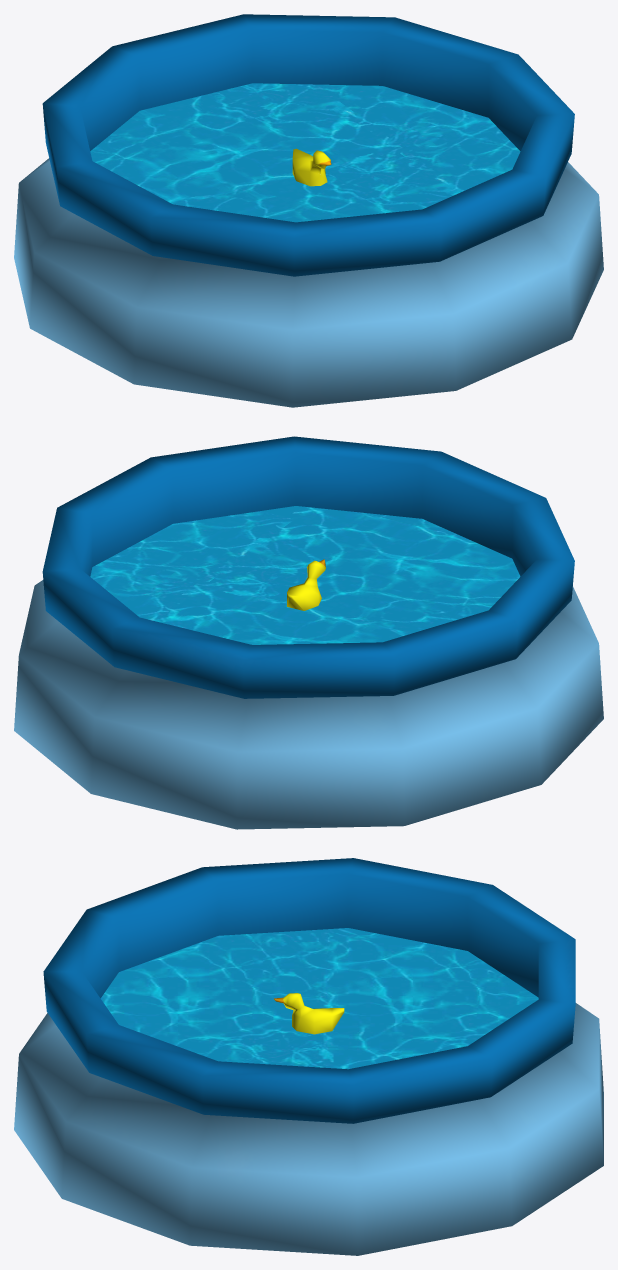
Rendered from pool_&_duck.FBX.
The picture shows the model from 3 angles, top to bottom: view 1: azimuth 30°, elevation 25°; view 2: azimuth 150°, elevation 25°; view 3: azimuth 270°, elevation 25°; orthographic projection.
Visible parts, largest first — view 1: KiddyPool, RubberDucky; view 2: KiddyPool, RubberDucky; view 3: KiddyPool, RubberDucky.
Part boxes in pixels (x1,y1,x2,y2): KiddyPool: [14, 14, 603, 407]; RubberDucky: [292, 148, 331, 186]; KiddyPool: [14, 436, 603, 829]; RubberDucky: [287, 559, 325, 610]; KiddyPool: [14, 858, 603, 1255]; RubberDucky: [274, 993, 344, 1034].
Bounding box in the file's own units: 112 × 111 × 39.72.
